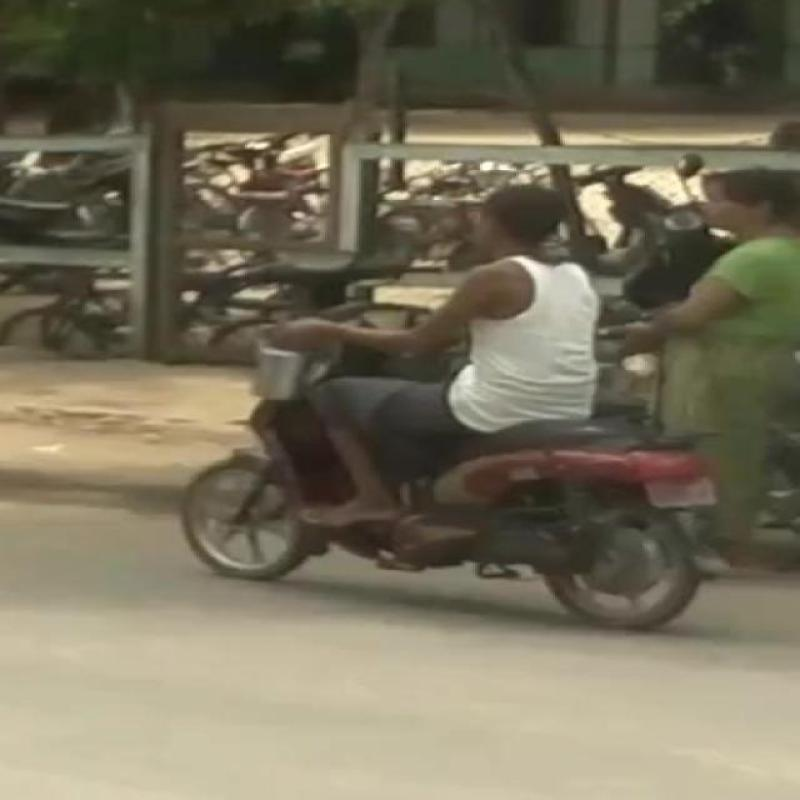nohelmet: (441, 173, 595, 262)
